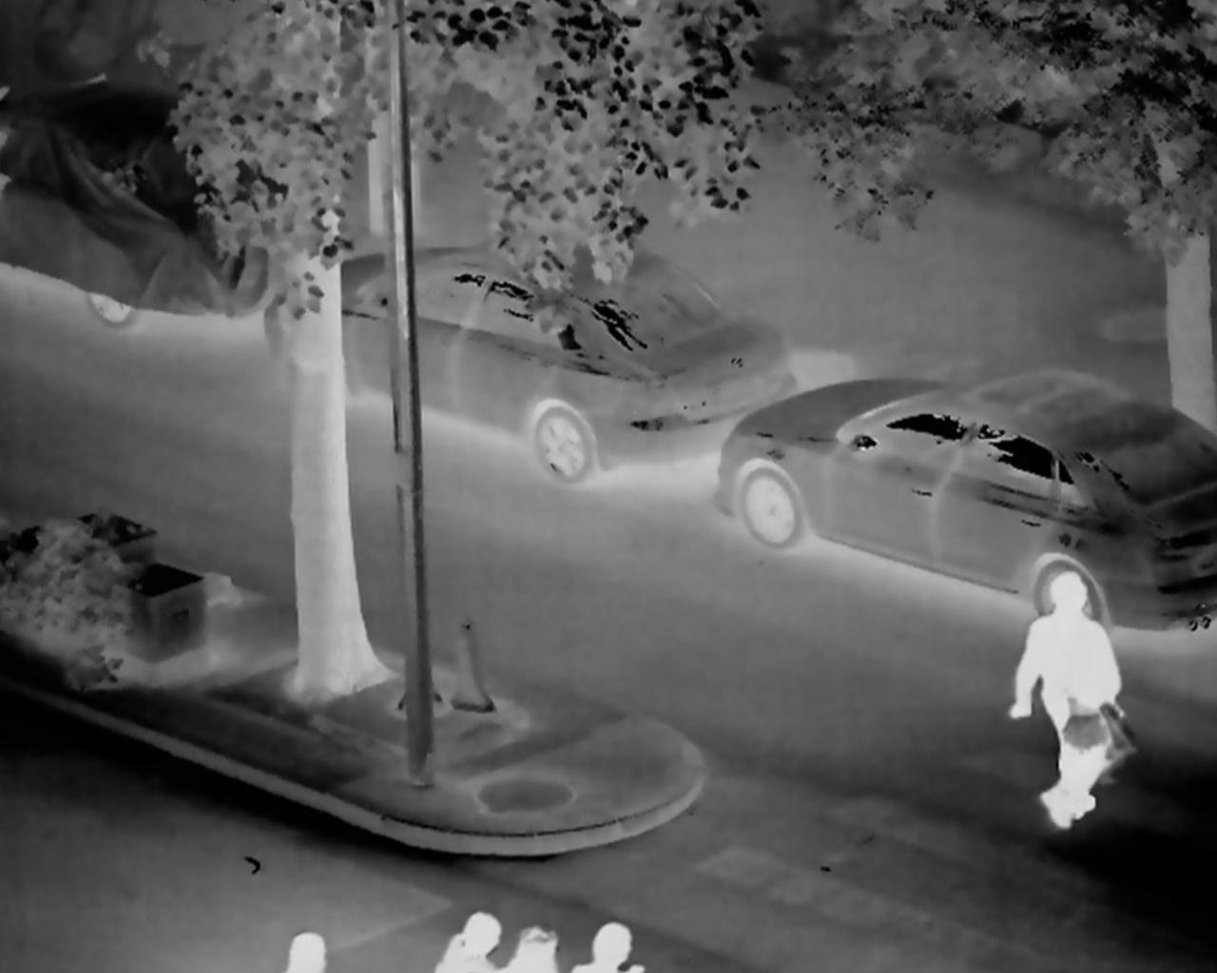person: (986, 539, 1135, 837), (239, 913, 347, 973), (563, 913, 648, 973), (431, 910, 503, 973), (516, 921, 570, 973)
